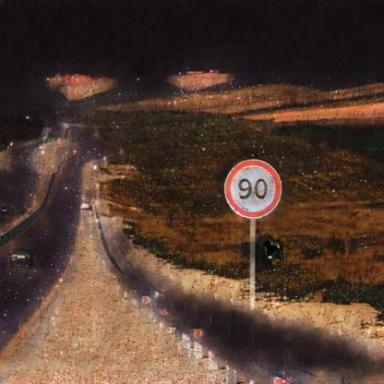Speed_limit_90: (228, 162, 281, 219)
